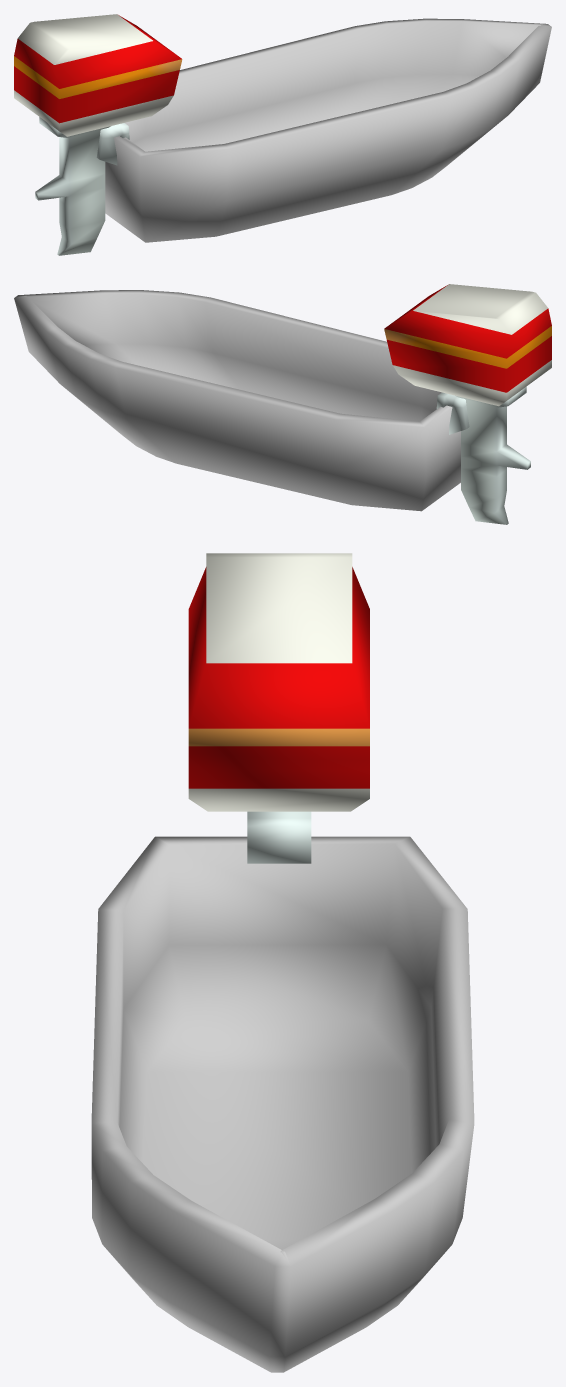
File: boat.fbx
3 views of the same model, one above another, from view 1: azimuth 30°, elevation 25°; view 2: azimuth 150°, elevation 25°; view 3: azimuth 270°, elevation 25° (orthographic). The views are drawn at different scales.
Parts seen in each view (by area): view 1: Plane, Cube; view 2: Plane, Cube; view 3: Plane, Cube.
Boxes of the visible parts, x1,y1,x2,y2 form: Plane: (105,18,551,242); Cube: (14,14,182,255); Plane: (14,290,460,511); Cube: (384,284,551,524); Plane: (91,836,474,1372); Cube: (188,553,369,863).
Bounding box in the file's own units: 1750 × 719 × 566.
